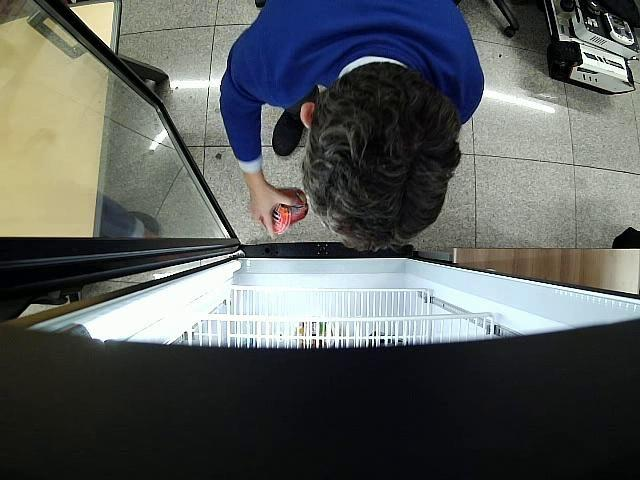01_ShinRamen_L: (272, 186, 308, 235)
